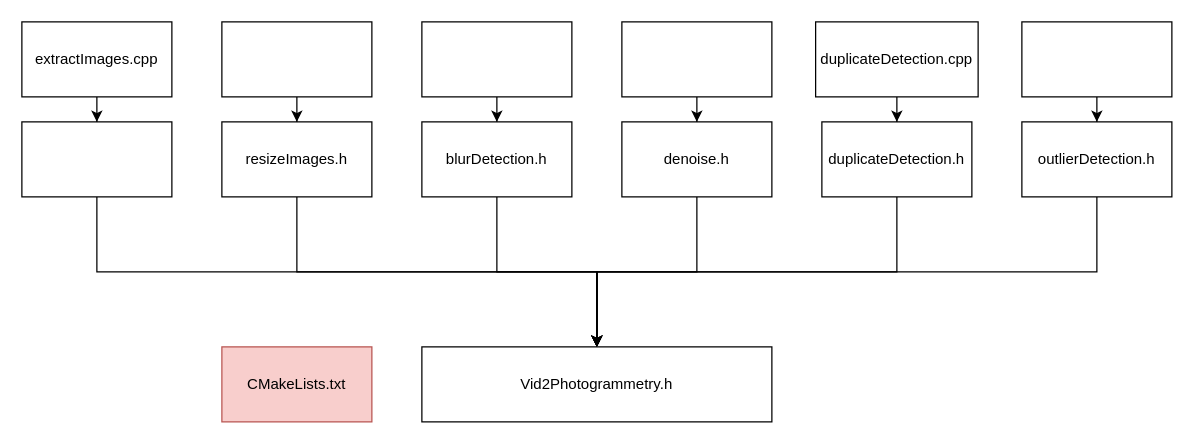
This 1194x444 diagram has some shape labels left out. Each missing label, with the centre of its shape:
"blurDetection.cpp" goes at (x=496, y=59).
"denoise.cpp" goes at (x=696, y=59).
"extractImages.h" goes at (x=96, y=159).
"outlierDetection.cpp" goes at (x=1096, y=59).
"resizeImages.cpp" goes at (x=296, y=59).
